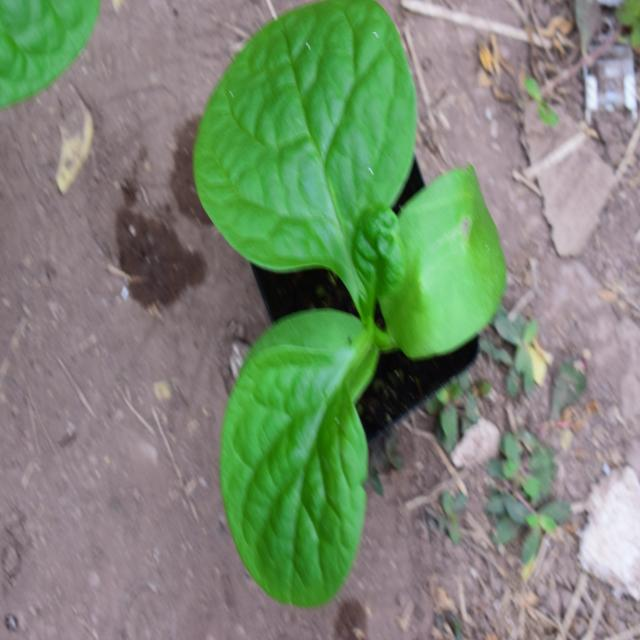Ceylon spinach: (195, 0, 499, 577)
